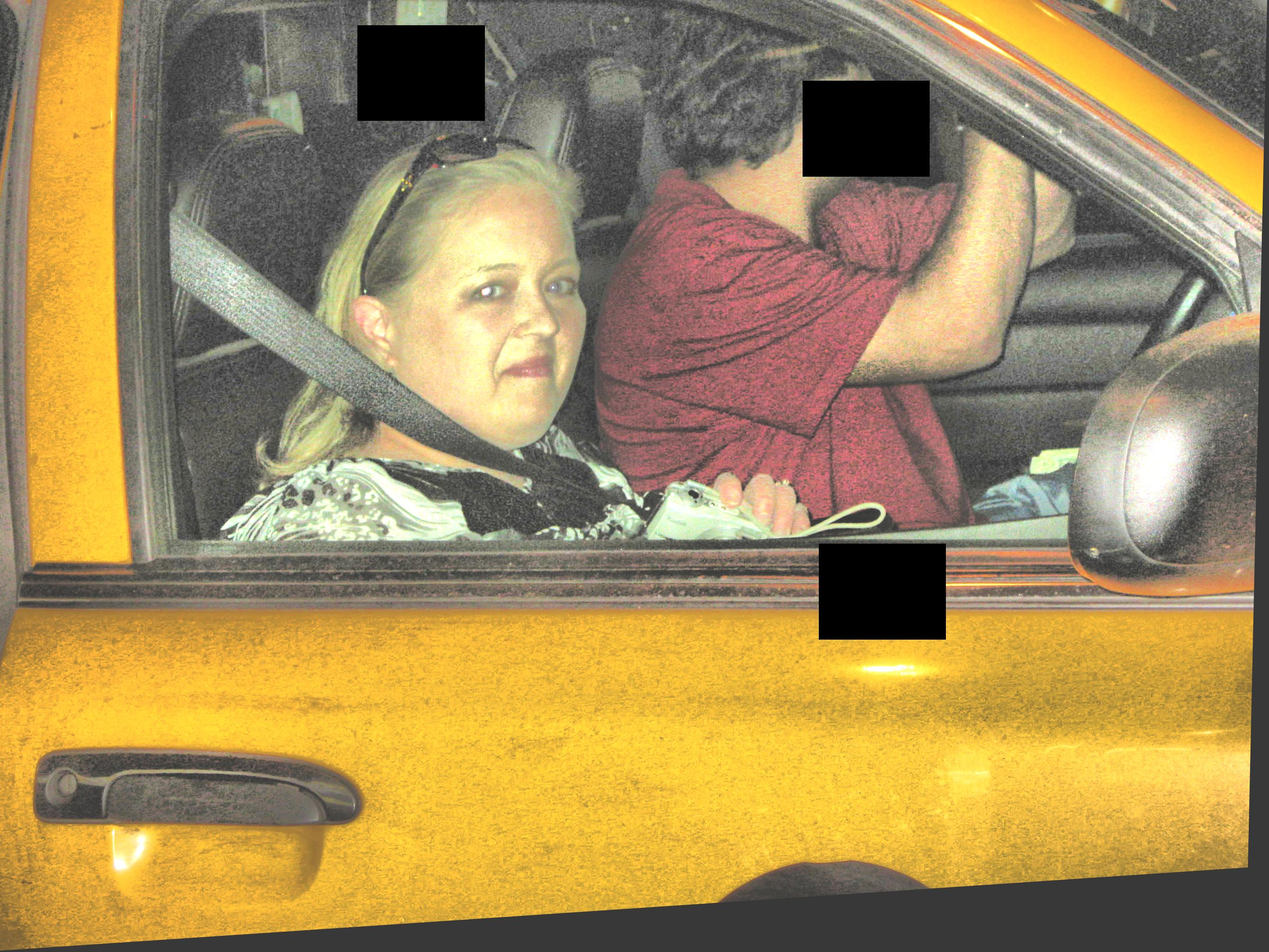seatbelt: (153, 181, 582, 512)
